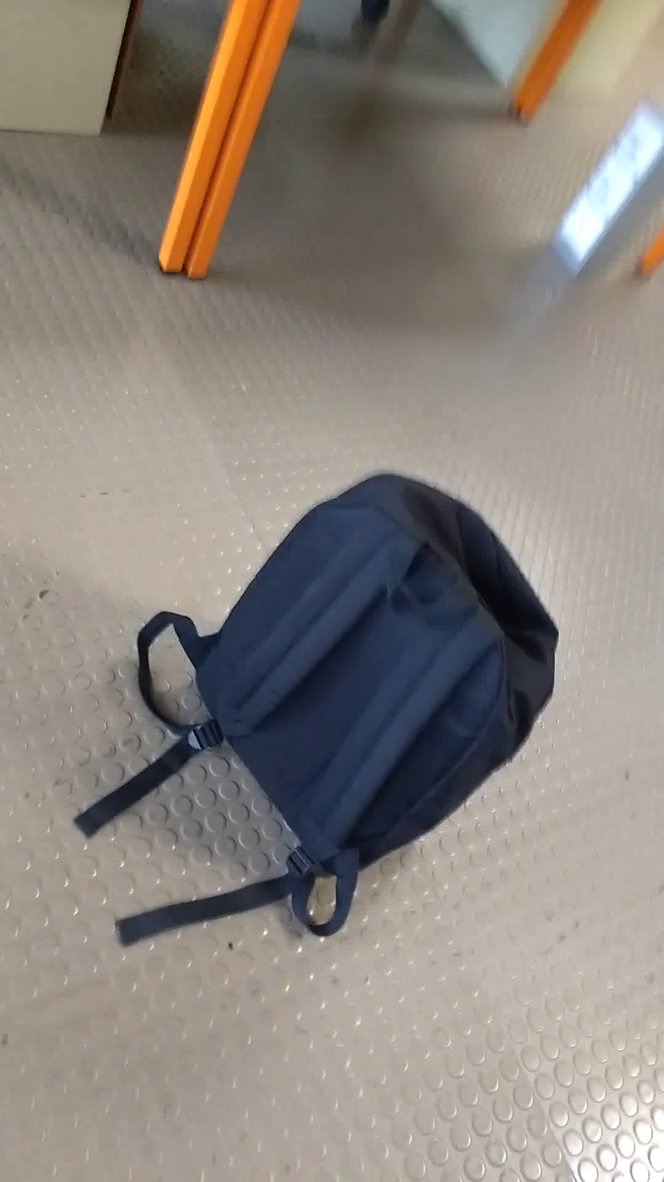bag: (64, 455, 576, 962)
